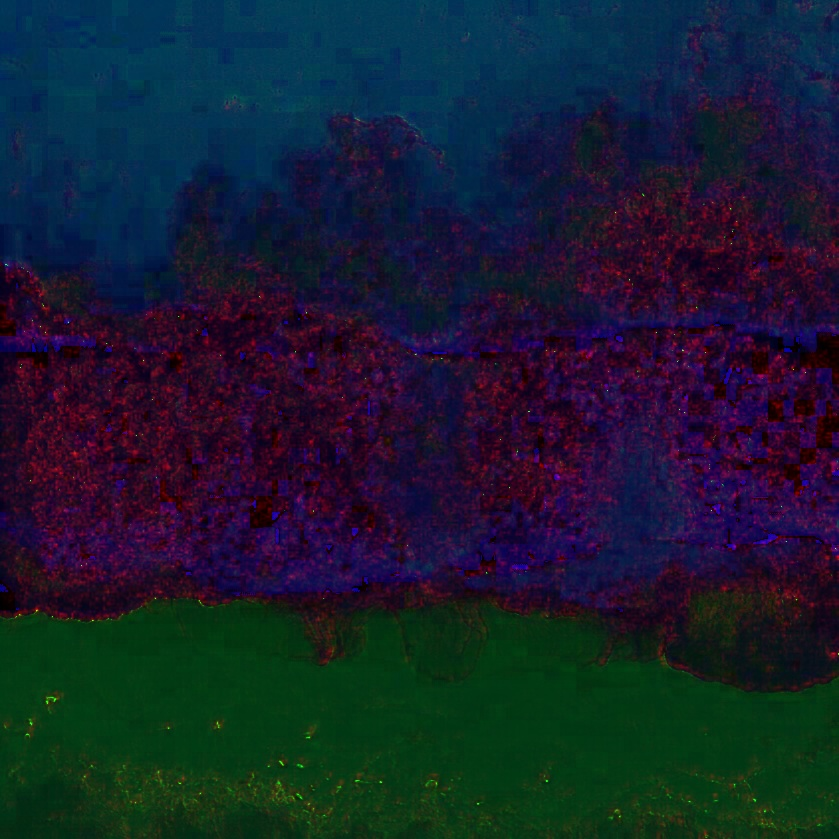rip_current: (300, 91, 561, 685)
